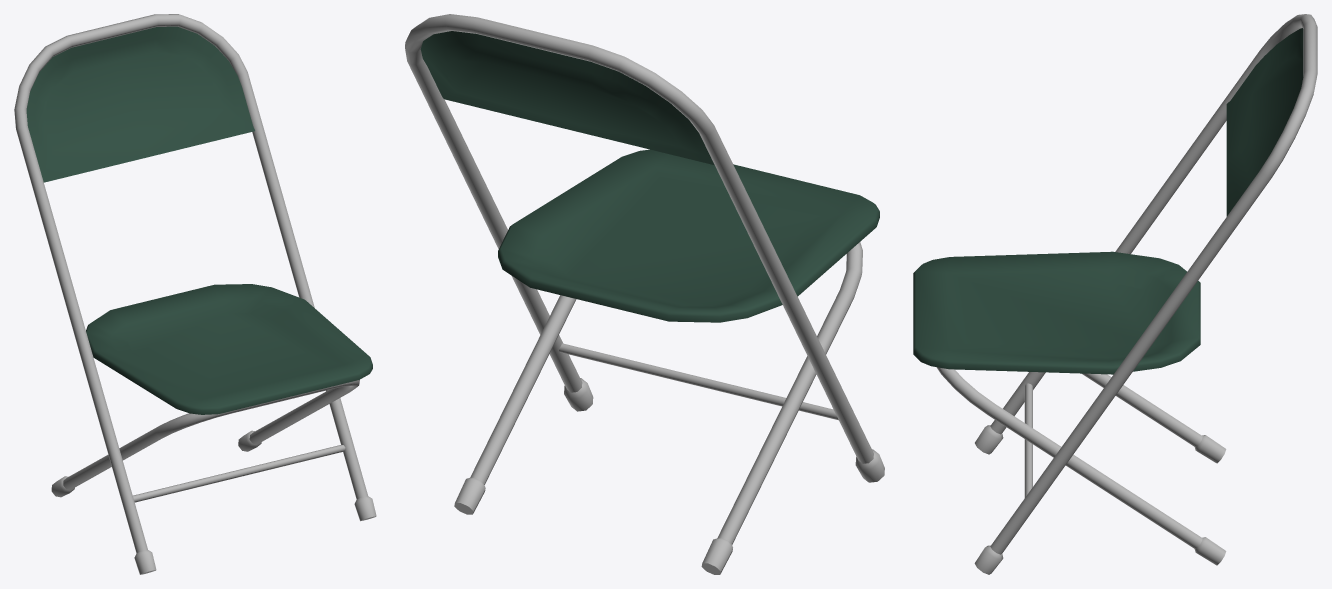
File: ChubwayChair_SM.FBX
The picture shows the model from 3 angles, left to right: view 1: azimuth 30°, elevation 25°; view 2: azimuth 150°, elevation 25°; view 3: azimuth 270°, elevation 25°; orthographic projection. The views are drawn at different scales.
Visible parts, largest first — view 1: ChubwayChair_SM, Plane003, Rectangle001; view 2: Plane003, ChubwayChair_SM, Rectangle001; view 3: Plane003, ChubwayChair_SM, Rectangle001.
Boxes of the visible parts, <box> form: ChubwayChair_SM: <box>14,14,376,574</box>; Plane003: <box>86,284,372,414</box>; Rectangle001: <box>51,380,359,497</box>; Plane003: <box>498,149,879,322</box>; ChubwayChair_SM: <box>405,14,884,482</box>; Rectangle001: <box>454,242,862,574</box>; Plane003: <box>913,251,1200,374</box>; ChubwayChair_SM: <box>974,14,1317,574</box>; Rectangle001: <box>936,367,1226,565</box>.
Size of the model in its own units: 74.64 by 126 by 98.29.
